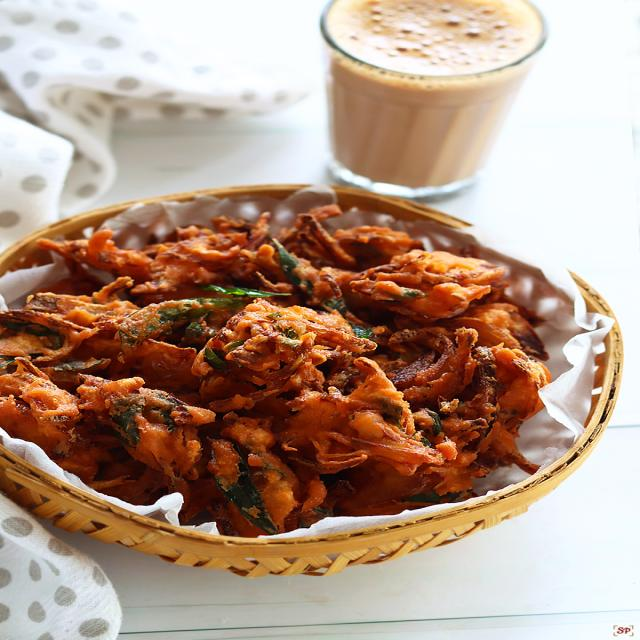BAJI: (0, 216, 565, 533)
